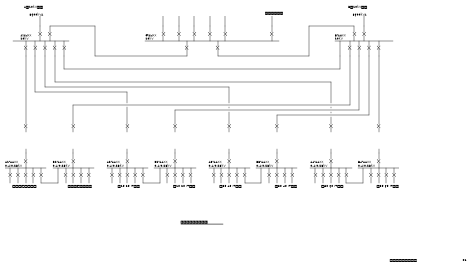door: (144, 151, 148, 156), (266, 151, 270, 156), (387, 151, 391, 156), (387, 138, 391, 143), (266, 145, 270, 149), (387, 145, 391, 149)
